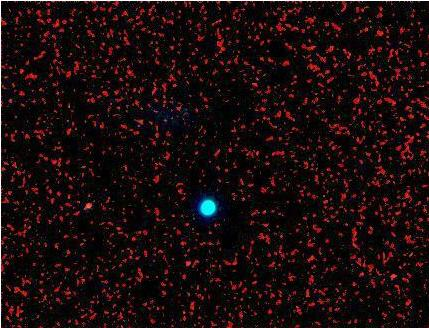star: (75, 195, 105, 225)
